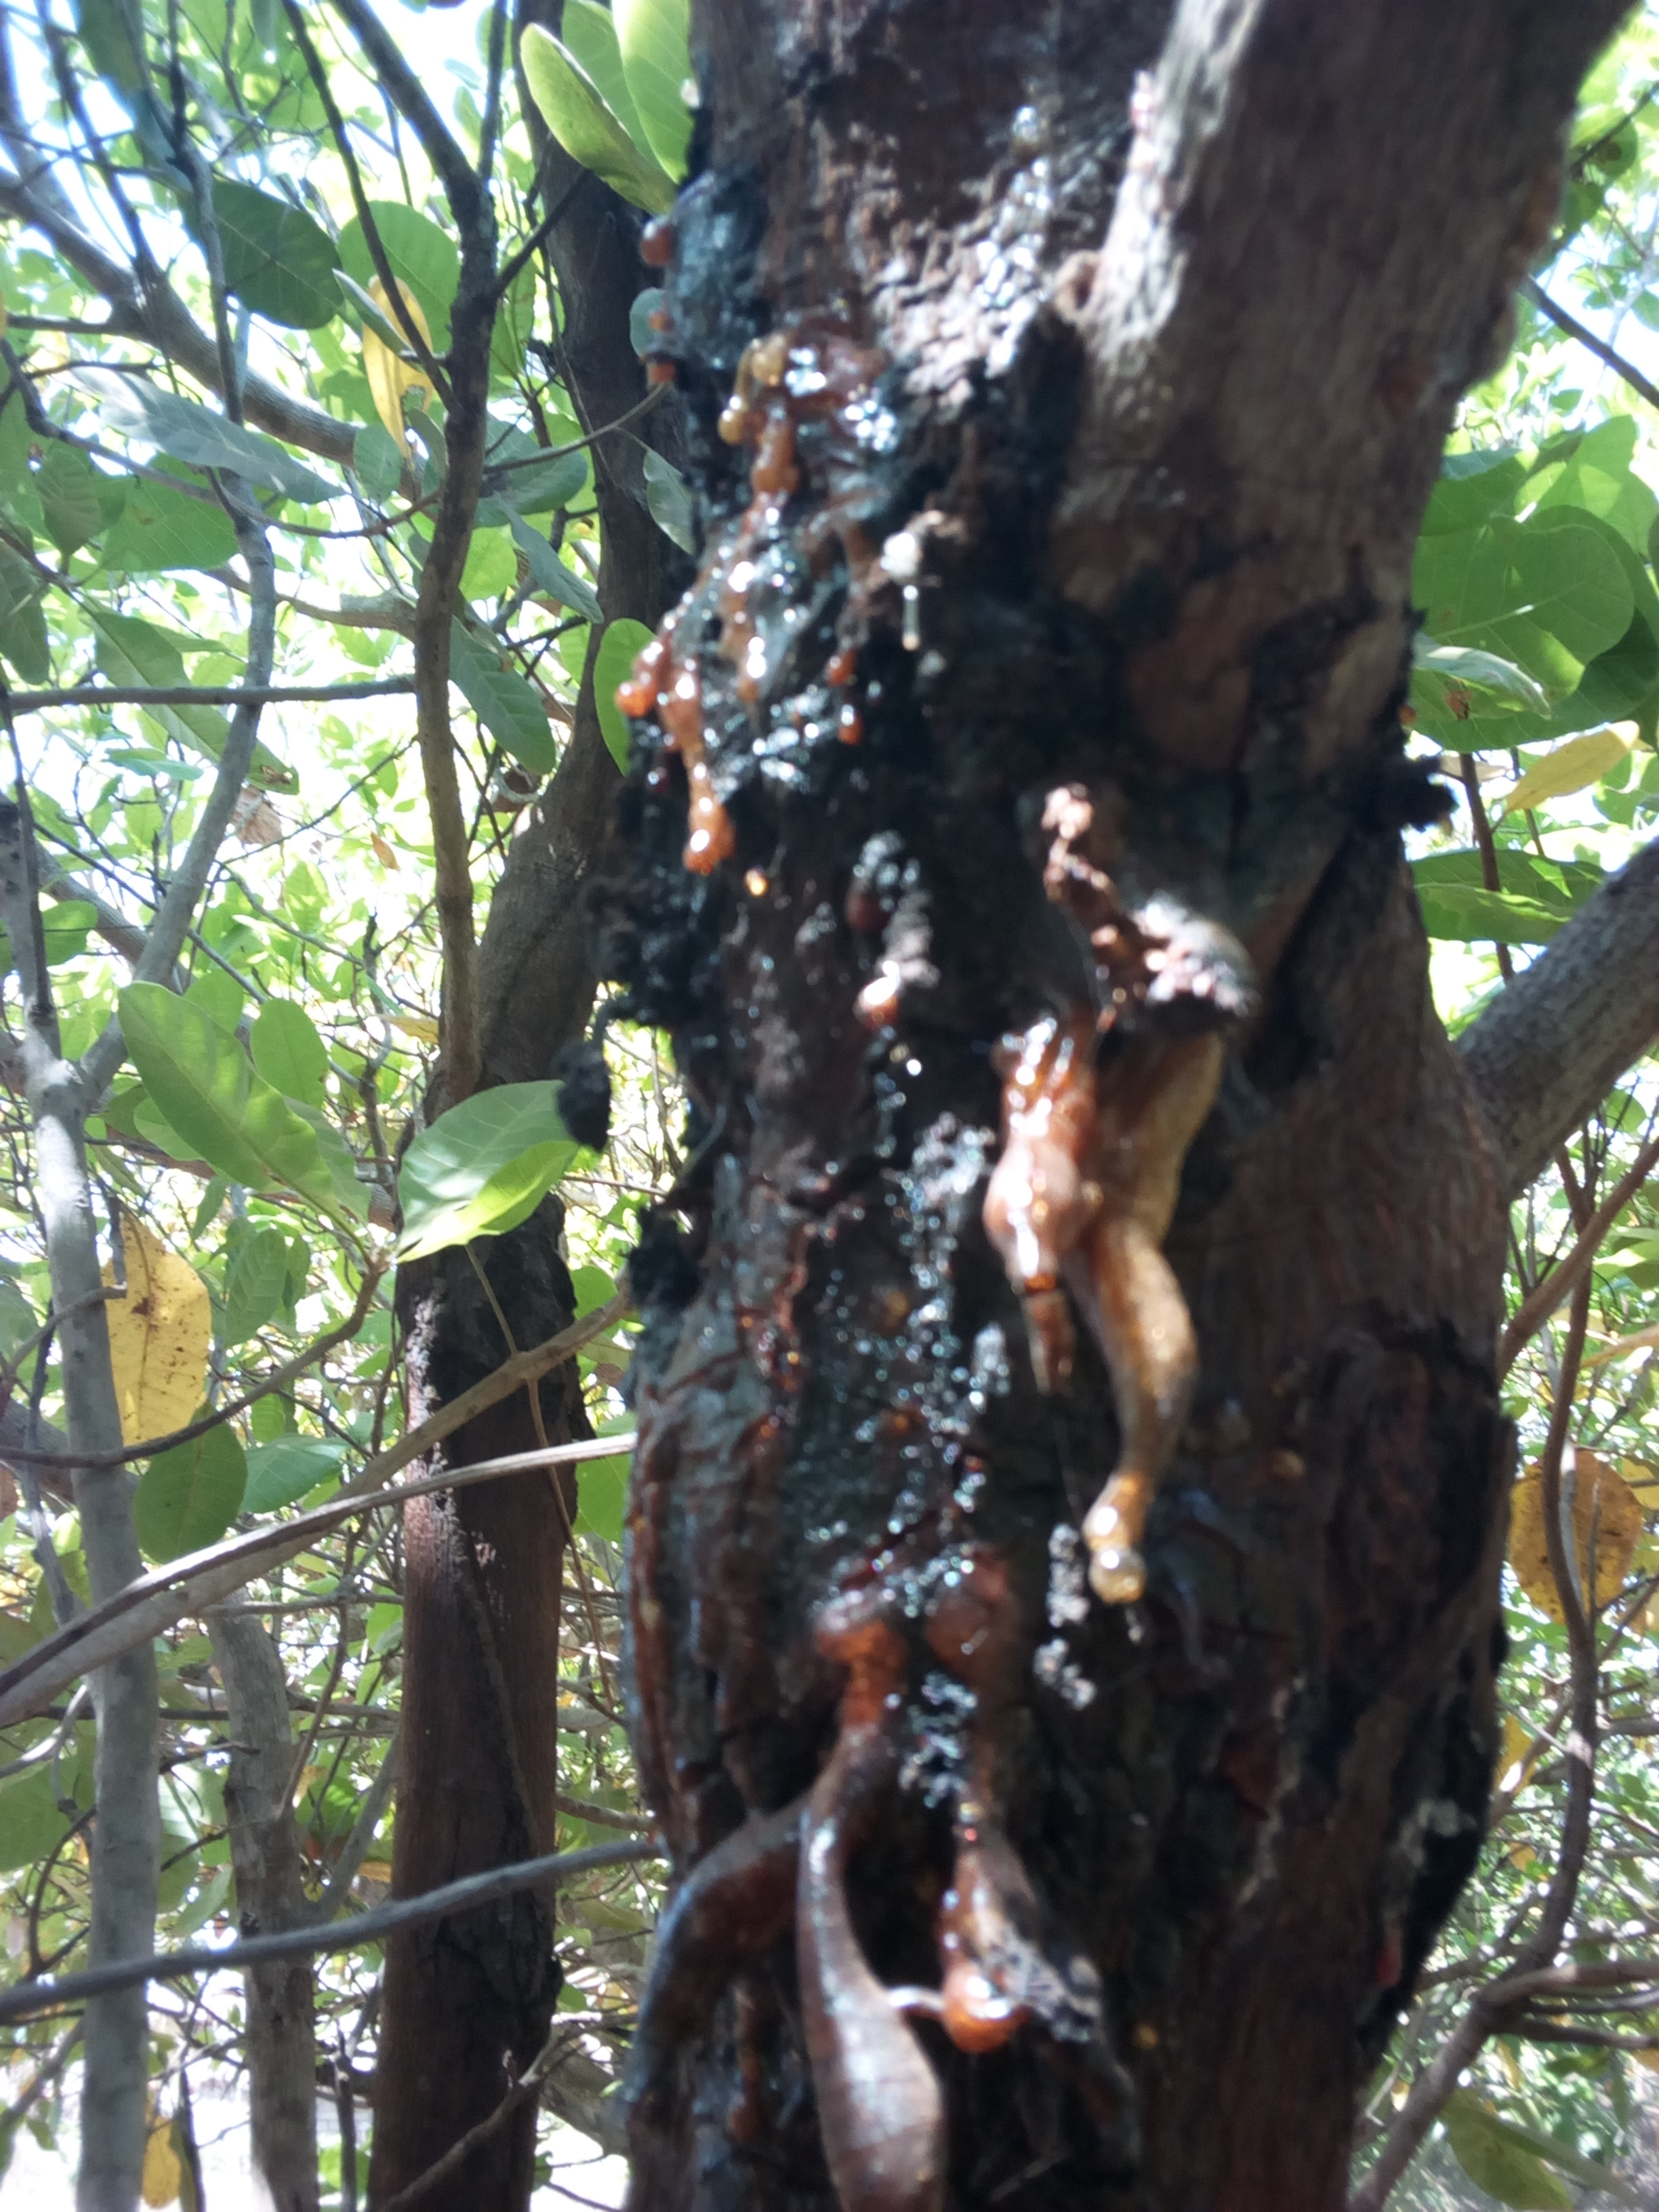Gommose: (636, 314, 1338, 2120)
